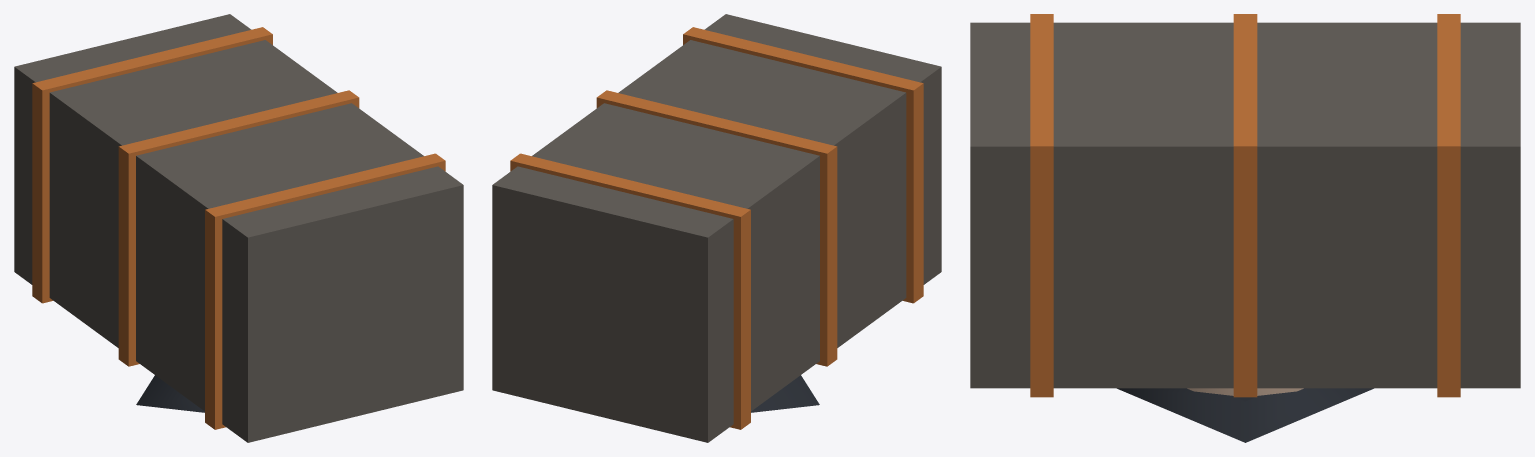
The model's file is compact_high_gravity--cargo_pod.glb.
The picture shows the model from 3 angles, left to right: view 1: azimuth 30°, elevation 25°; view 2: azimuth 150°, elevation 25°; view 3: azimuth 270°, elevation 25°; orthographic projection. The views are drawn at different scales.
Parts seen in each view (by area): view 1: freight_box_3, load_band_5, load_band_6, load_band_4, mount_adapter_1; view 2: freight_box_3, load_band_5, load_band_4, load_band_6, mount_adapter_1; view 3: freight_box_3, load_band_5, load_band_4, load_band_6, mount_adapter_1.
Part boxes in pixels (x1,y1,x2,y2): freight_box_3: [14, 14, 463, 442]; load_band_5: [118, 90, 359, 366]; load_band_6: [205, 153, 445, 429]; load_band_4: [32, 27, 272, 303]; mount_adapter_1: [136, 375, 204, 412]; freight_box_3: [492, 14, 941, 442]; load_band_5: [596, 90, 837, 366]; load_band_4: [510, 153, 750, 429]; load_band_6: [683, 27, 923, 303]; mount_adapter_1: [751, 375, 819, 412]; freight_box_3: [970, 22, 1520, 388]; load_band_5: [1233, 14, 1257, 397]; load_band_4: [1437, 14, 1460, 397]; load_band_6: [1030, 14, 1053, 397]; mount_adapter_1: [1117, 388, 1373, 442].
Bounding box in the file's own units: 22.56 × 24.12 × 39.6.
